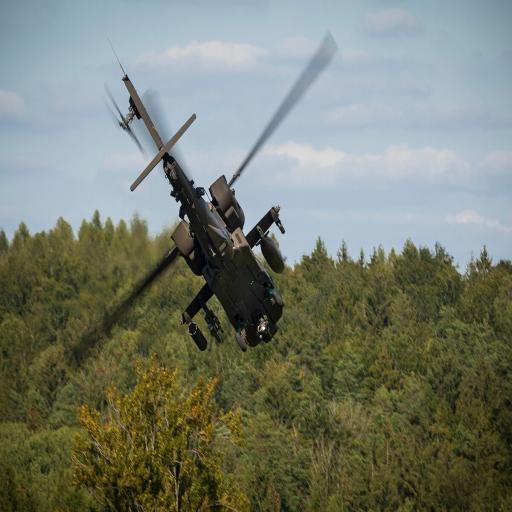helicopter: (58, 20, 346, 402)
